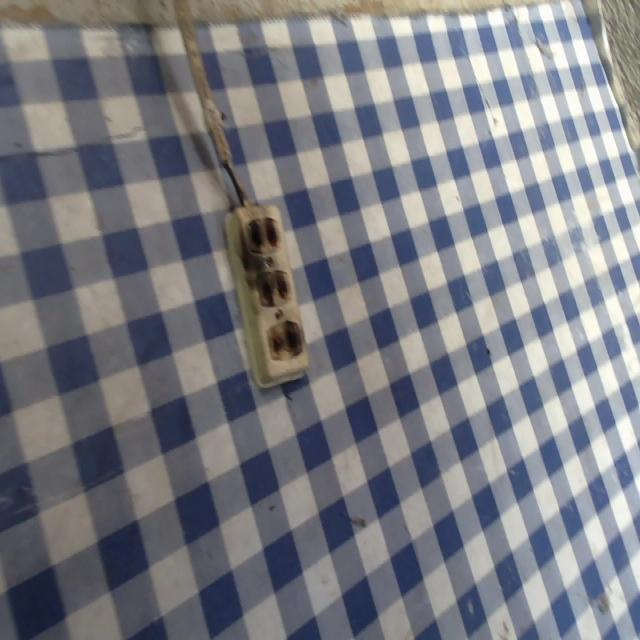-: (230, 210, 289, 258), (260, 316, 309, 369), (250, 266, 301, 310)
